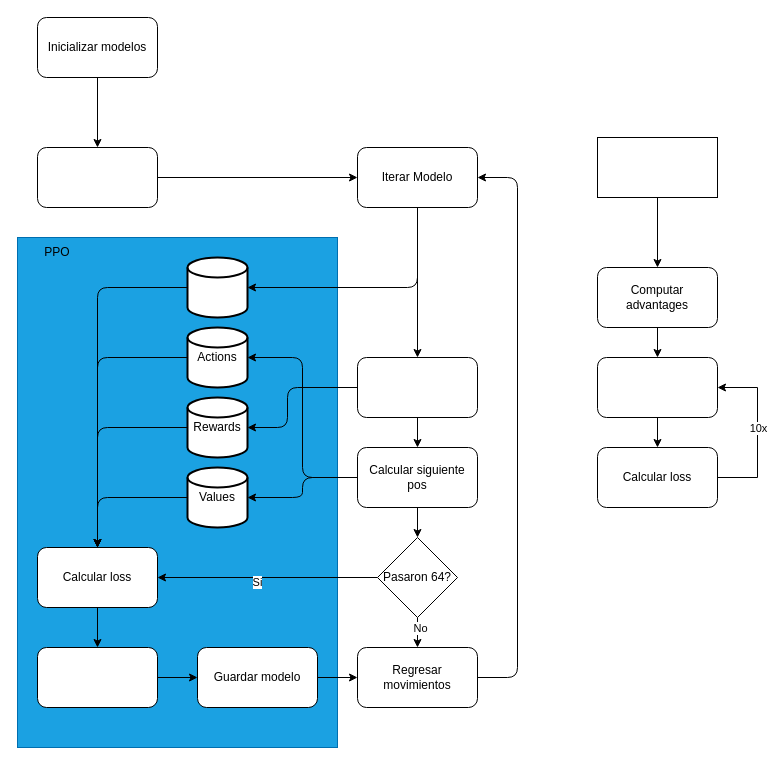
Image size: 784x765. Some labels were removed from this diagram. Each missing label, with the centre of its shape:
Calcular ratio: pixel 657 387
Calculo de reward: pixel 417 387
Crear y abrir API: pixel 97 177
Loss: pixel 657 167
Positions: pixel 217 287
Reiniciar datos: pixel 97 677
